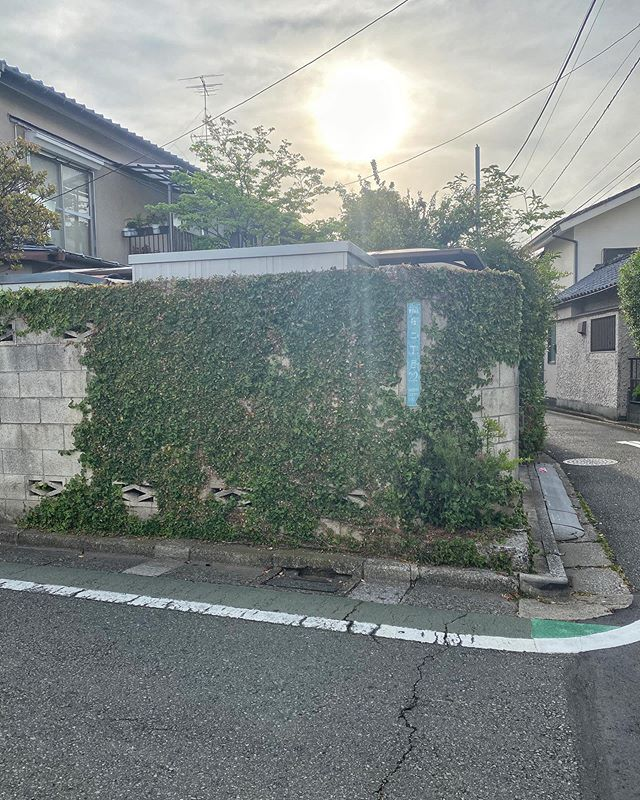building: (6, 77, 278, 280), (551, 168, 640, 418)
sky: (7, 4, 640, 208)
street: (12, 542, 640, 800)
sun: (296, 46, 431, 170)
wall: (1, 278, 503, 550)
